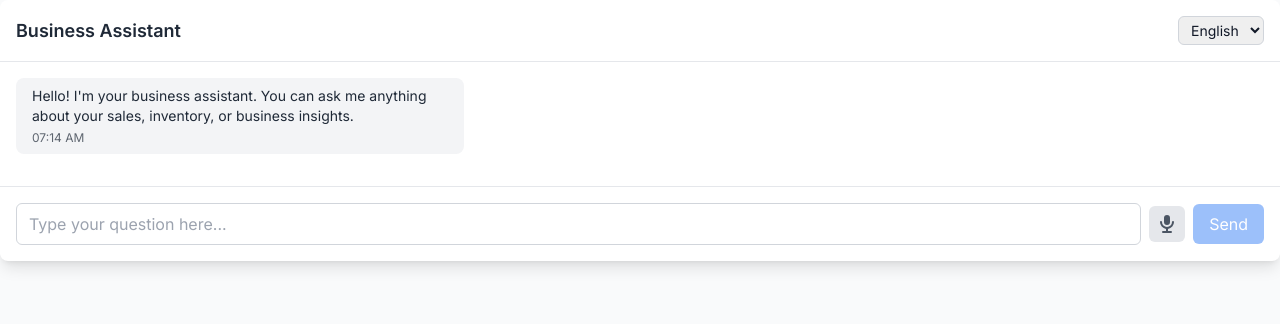
ChatInterface › voice messaging › should handle microphone access denied
The width and height of the screenshot is (1280, 324).
Click the button named "voice recording" at (1167, 224), box [1149, 206, 1185, 242]
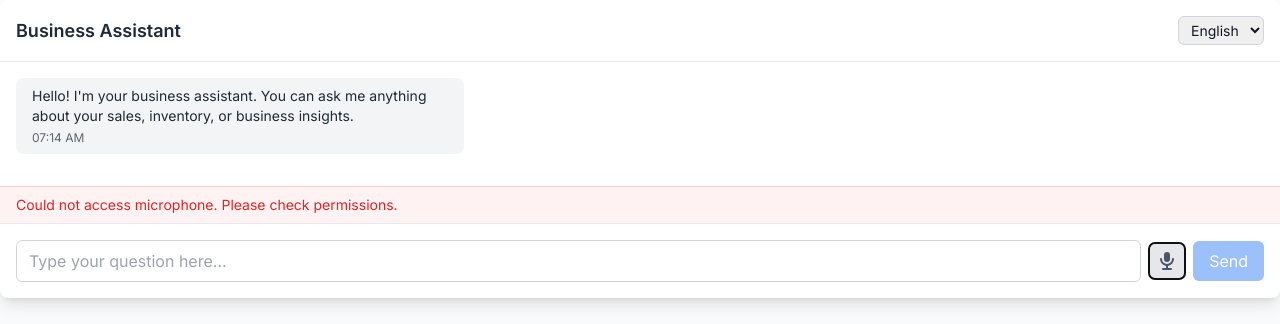
Now the text "Could not access microphone. Please check permissions." is shown, box [16, 196, 398, 213]
